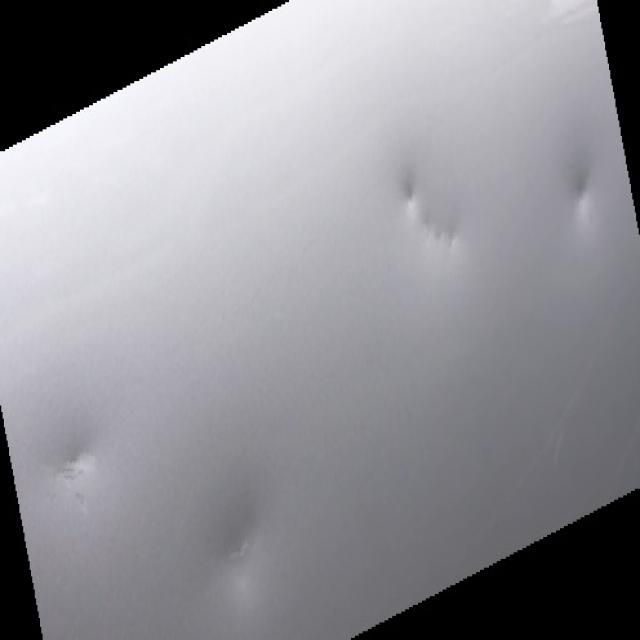dent: (388, 181, 484, 297), (40, 418, 125, 543), (215, 507, 280, 593), (570, 172, 588, 205)
